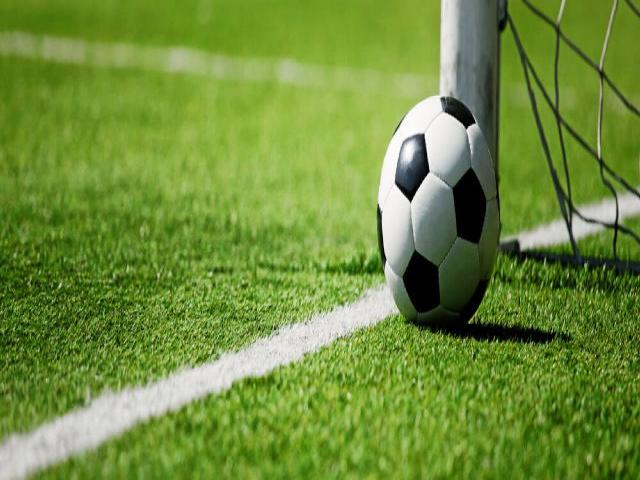round ball: (376, 93, 502, 344)
